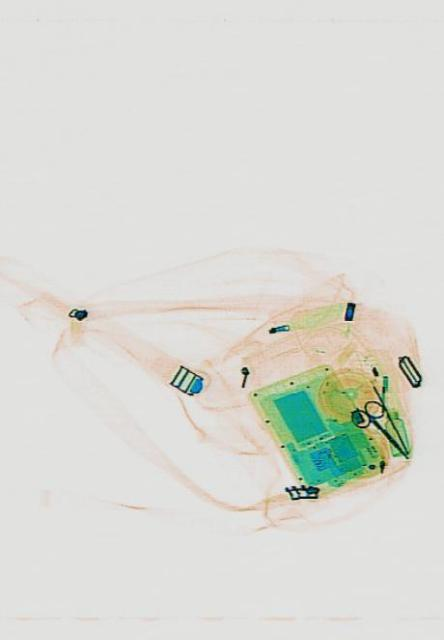Scissors: (345, 387, 413, 473)
